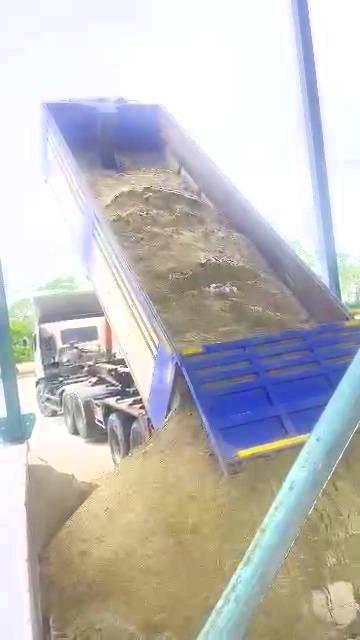sand: (43, 405, 295, 639), (87, 166, 312, 346), (250, 435, 360, 639), (29, 452, 93, 553)
